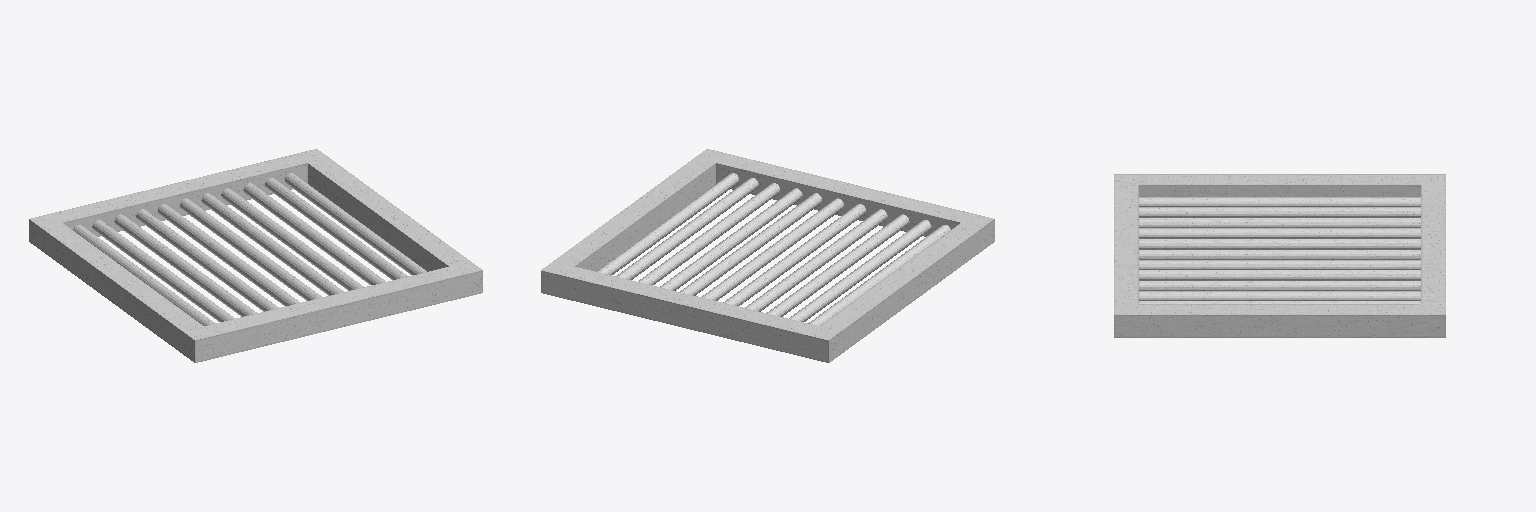
The picture shows the model from 3 angles: view 1: azimuth 30°, elevation 25°; view 2: azimuth 150°, elevation 25°; view 3: azimuth 270°, elevation 25°; orthographic projection.
Parts seen in each view (by area): view 1: grate-clean; view 2: grate-clean; view 3: grate-clean.
Boxes of the visible parts, <box> form: grate-clean: <box>29,149,482,362</box>; grate-clean: <box>541,149,994,362</box>; grate-clean: <box>1114,174,1445,337</box>.
Bounding box in the file's own units: 2 × 0.15 × 2.
1 materials, 1 textured.